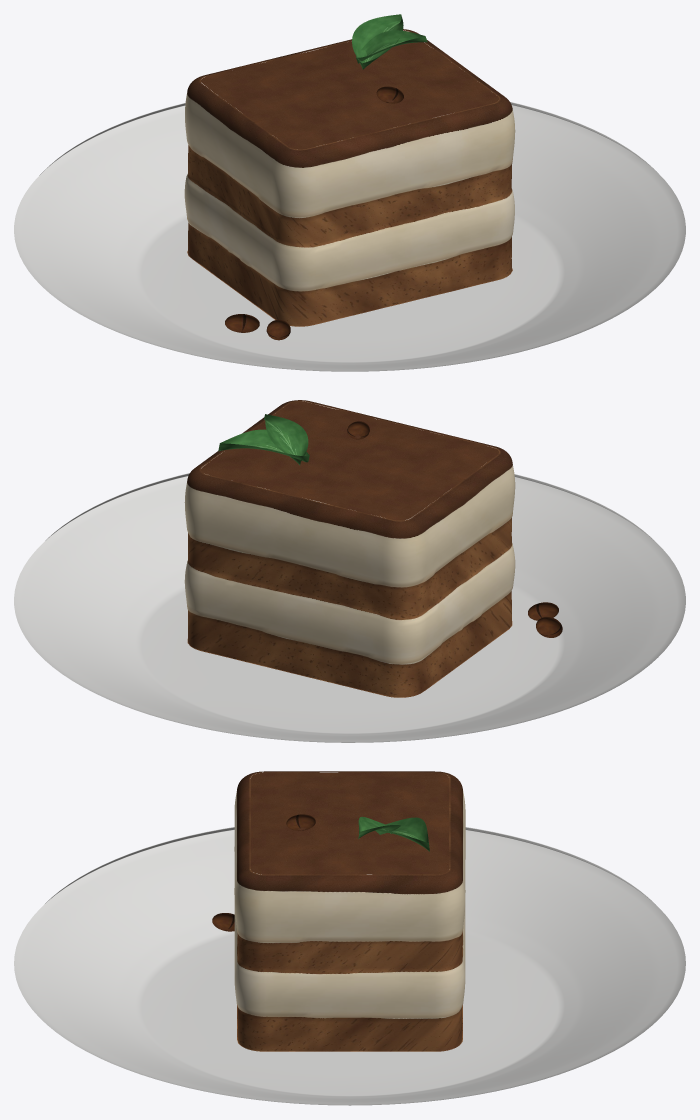
File: tiramisu.prep.glb
3 renders of one model, top to bottom at view 1: azimuth 30°, elevation 25°; view 2: azimuth 150°, elevation 25°; view 3: azimuth 270°, elevation 25°, orthographic.
Visible parts, largest first — view 1: tiramisu; view 2: tiramisu; view 3: tiramisu.
Part boxes in pixels (x1=…): tiramisu: x1=14, y1=14, x2=685, y2=371; tiramisu: x1=14, y1=400, x2=685, y2=742; tiramisu: x1=14, y1=771, x2=685, y2=1105.
Size of the model in its own units: 0.22 by 0.0777 by 0.22.
Materials: 6 (5 with a texture image).
